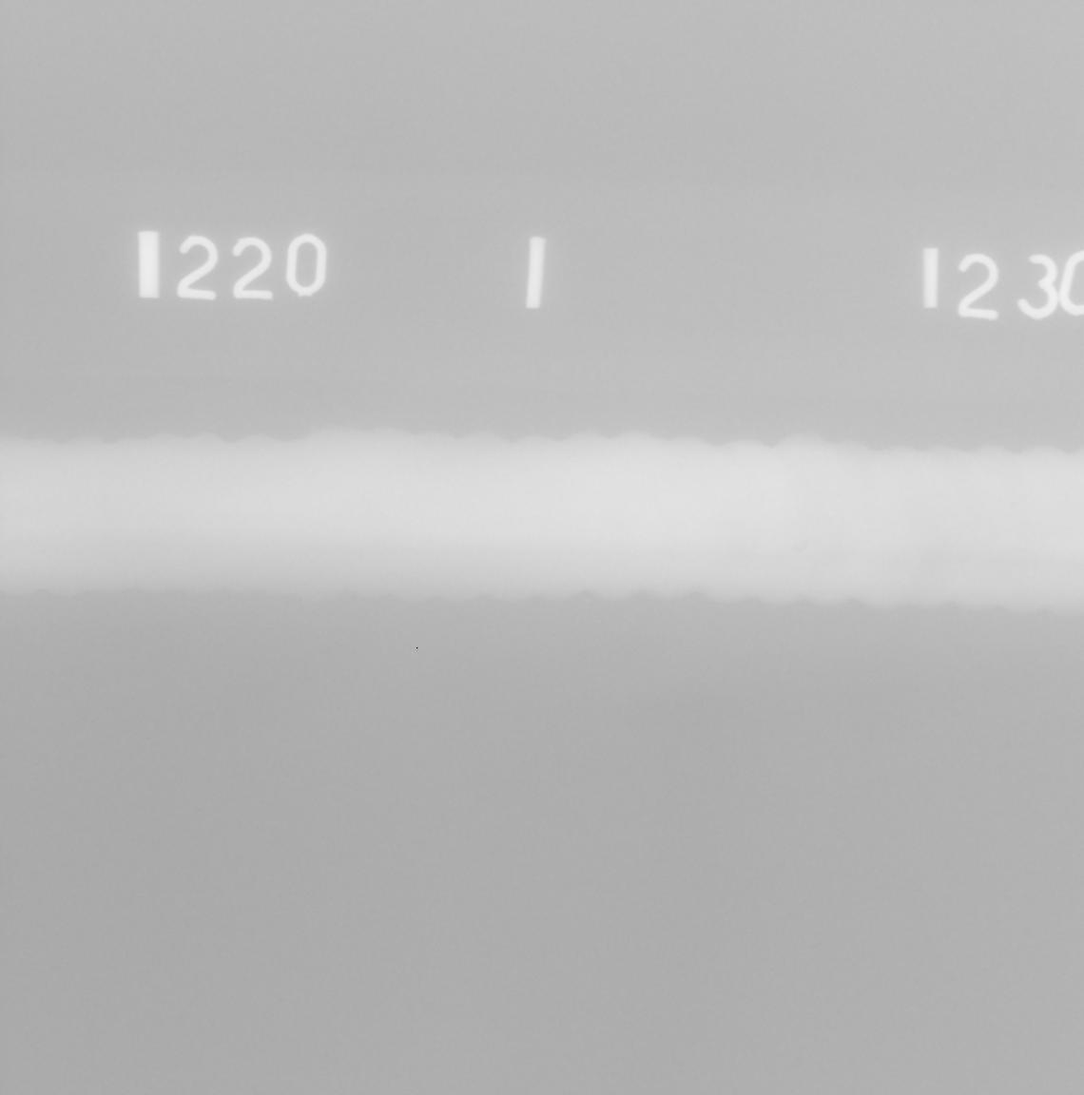Inclusion: (797, 541, 810, 554)
Pore/Porosity: (1010, 502, 1016, 508)
